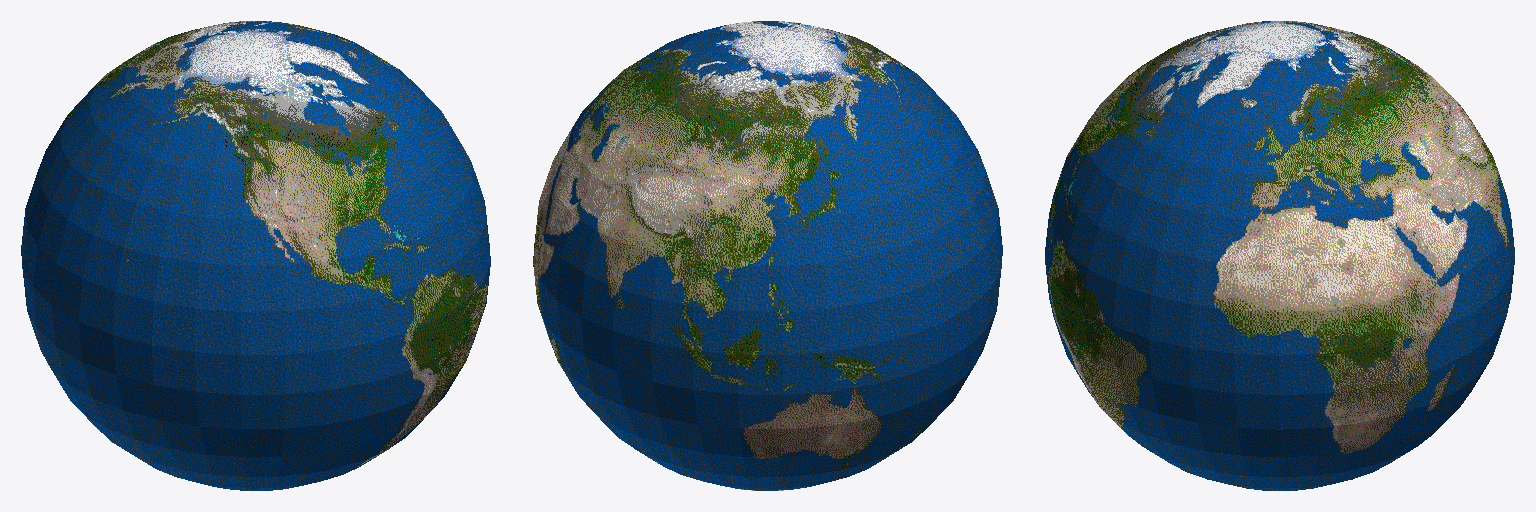
The picture shows the model from 3 angles: view 1: azimuth 30°, elevation 25°; view 2: azimuth 150°, elevation 25°; view 3: azimuth 270°, elevation 25°; orthographic projection.
Parts seen in each view (by area): view 1: earthuv; view 2: earthuv; view 3: earthuv.
Part boxes in pixels (x1,y1,x2,y2): earthuv: (21, 21, 490, 490); earthuv: (533, 21, 1002, 490); earthuv: (1045, 21, 1514, 490).
Size of the model in its own units: 2 by 2 by 2.
Materials: 1 (1 with a texture image).